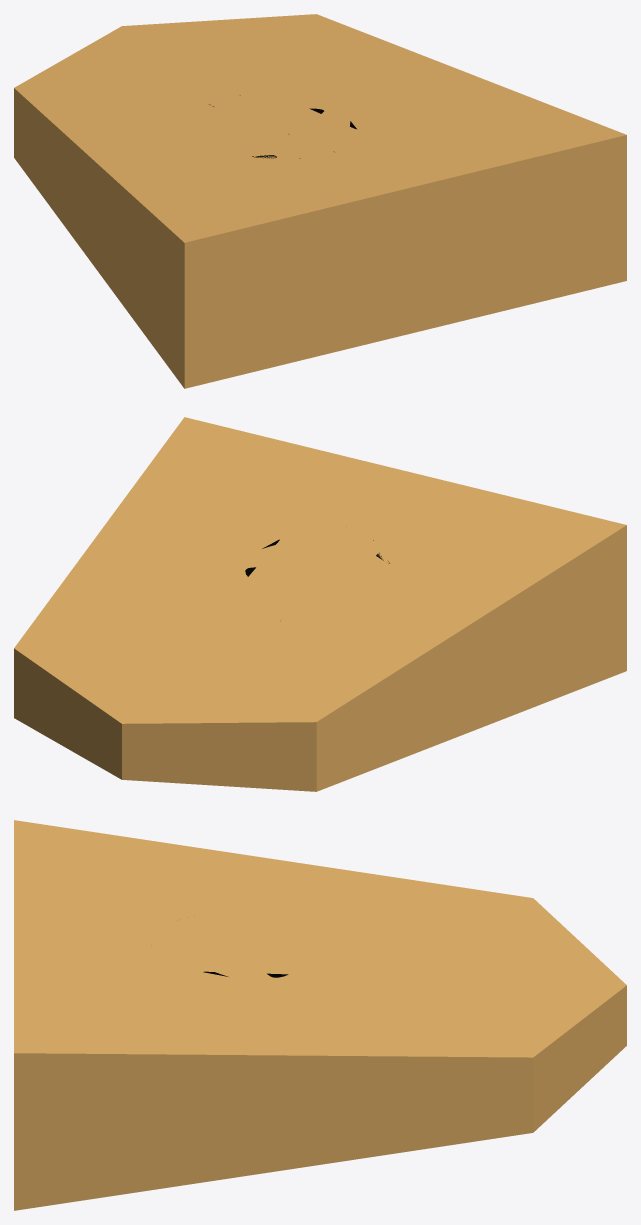
File: kin.fbx
3 renders of one model, top to bottom at view 1: azimuth 30°, elevation 25°; view 2: azimuth 150°, elevation 25°; view 3: azimuth 270°, elevation 25°, orthographic. The views are drawn at different scales.
Parts seen in each view (by area): view 1: kin; view 2: kin; view 3: kin.
Boxes of the visible parts, bbox=[...] form: kin: bbox=[14, 14, 626, 388]; kin: bbox=[14, 417, 626, 791]; kin: bbox=[14, 820, 626, 1210].
Size of the model in its own units: 0.026 by 0.0082 by 0.0289.
